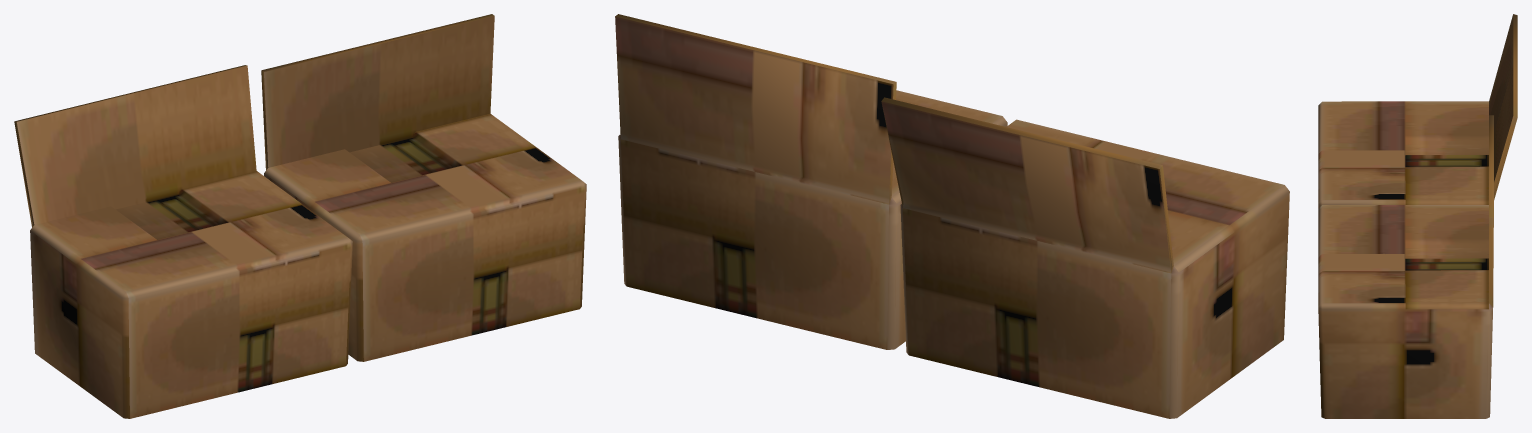
Rendered from int_dmb_chairL.dae.
The picture shows the model from 3 angles, left to right: view 1: azimuth 30°, elevation 25°; view 2: azimuth 150°, elevation 25°; view 3: azimuth 270°, elevation 25°; orthographic projection. The views are drawn at different scales.
Visible parts, largest first — view 1: int_dmb_chairL; view 2: int_dmb_chairL; view 3: int_dmb_chairL.
Part boxes in pixels (x1,y1,x2,y2): int_dmb_chairL: (14,14,586,418); int_dmb_chairL: (615,14,1289,418); int_dmb_chairL: (1318,14,1517,418).
Size of the model in its own units: 59.4 by 27.32 by 24.36.
1 material, 1 textured.
